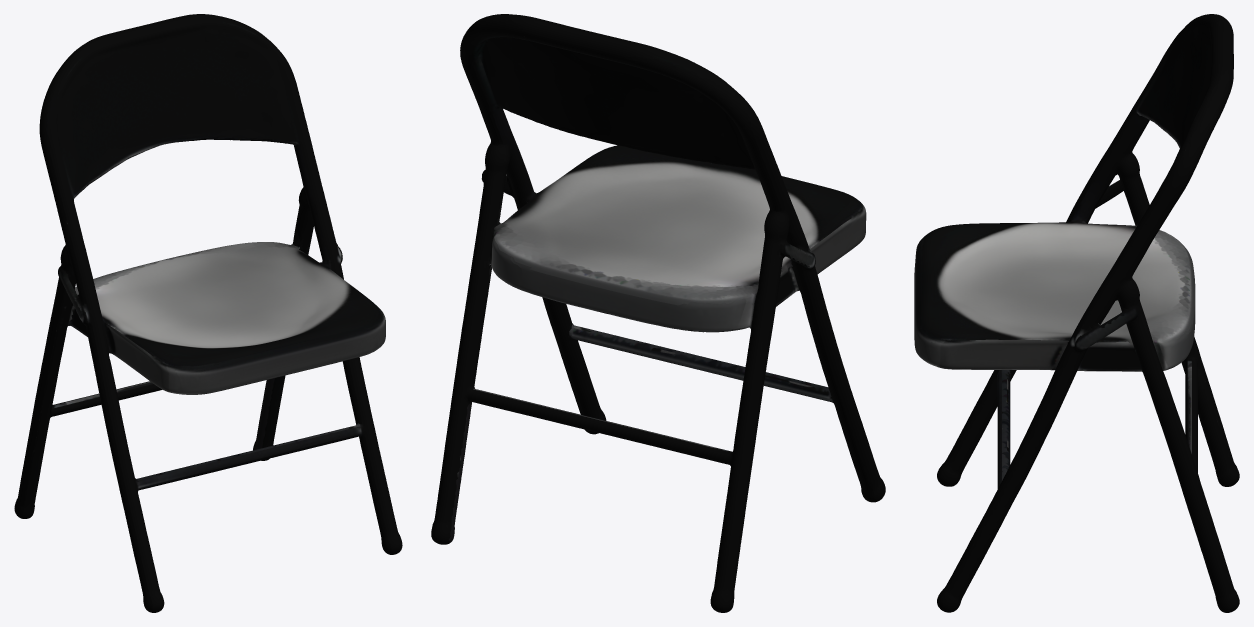
The model's file is chair__chair#4.glb.
The picture shows the model from 3 angles, left to right: view 1: azimuth 30°, elevation 25°; view 2: azimuth 150°, elevation 25°; view 3: azimuth 270°, elevation 25°; orthographic projection. The views are drawn at different scales.
Parts seen in each view (by area): view 1: tmpd9v457_a.ply; view 2: tmpd9v457_a.ply; view 3: tmpd9v457_a.ply.
Part boxes in pixels (x1,y1,x2,y2): tmpd9v457_a.ply: [14, 14, 402, 612]; tmpd9v457_a.ply: [431, 14, 885, 612]; tmpd9v457_a.ply: [914, 14, 1239, 612].
Size of the model in its own units: 1.16 by 1.99 by 1.17.
Materials: 1 (1 with a texture image).
